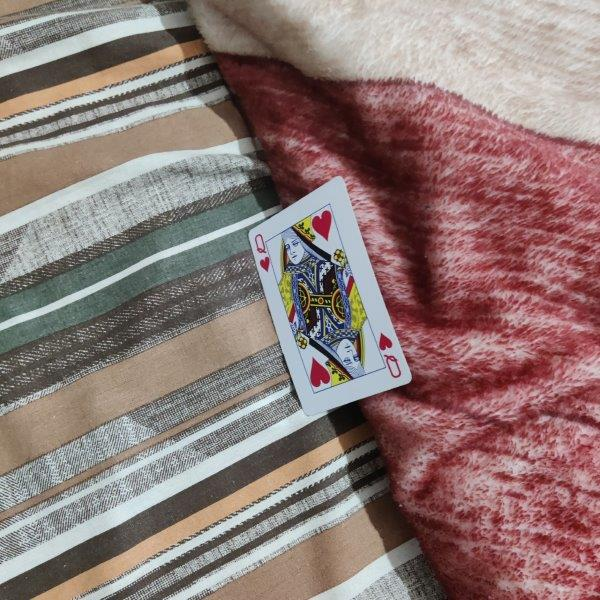Queen of Hearts: (246, 176, 415, 416)
